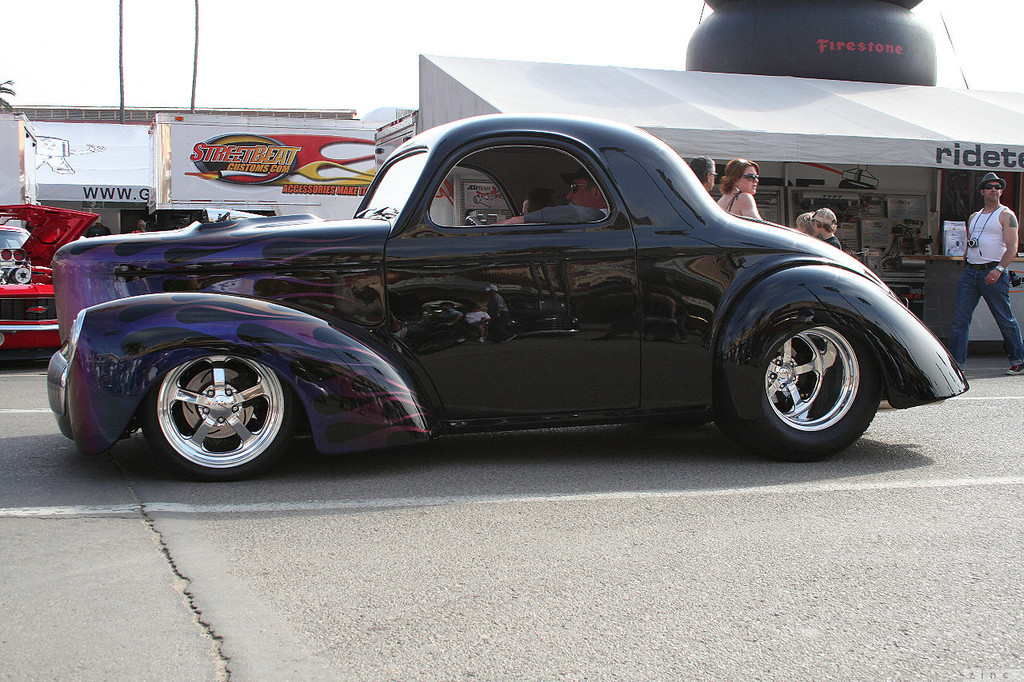mobil: (56, 109, 975, 472)
